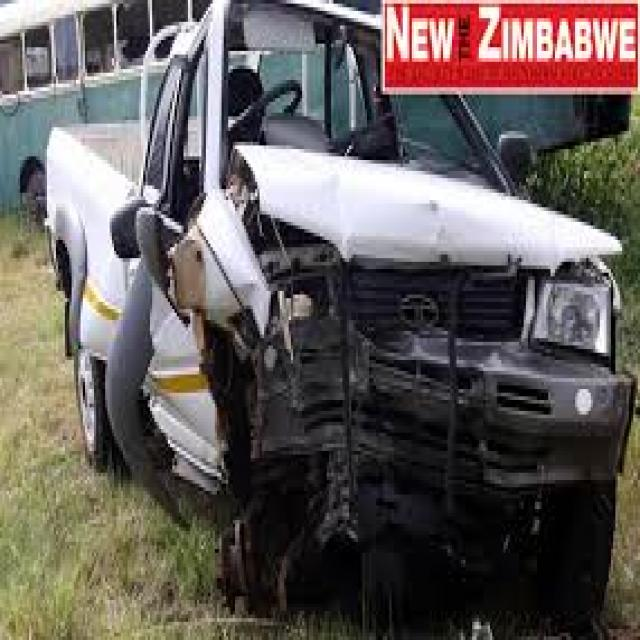severe: (128, 113, 623, 599)
